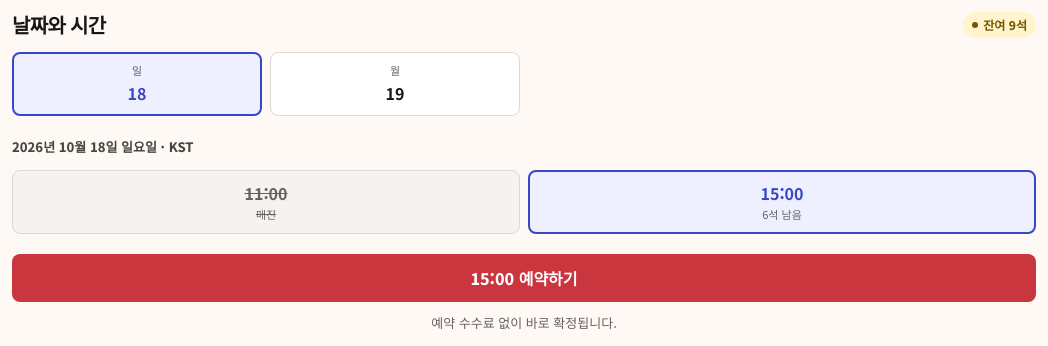
Test: slot picker preselects the first reservable slot and switches dates
The width and height of the screenshot is (1048, 346).
Check: the text "잔여 9석" is shown, box [963,12,1036,38]
Check: the text "2026년 10월 18일 일요일 · KST" is shown, box [12,137,193,156]
Click the button named "2026년 10월 19일 월요일".
click(395, 84)  # box [270,52,520,116]
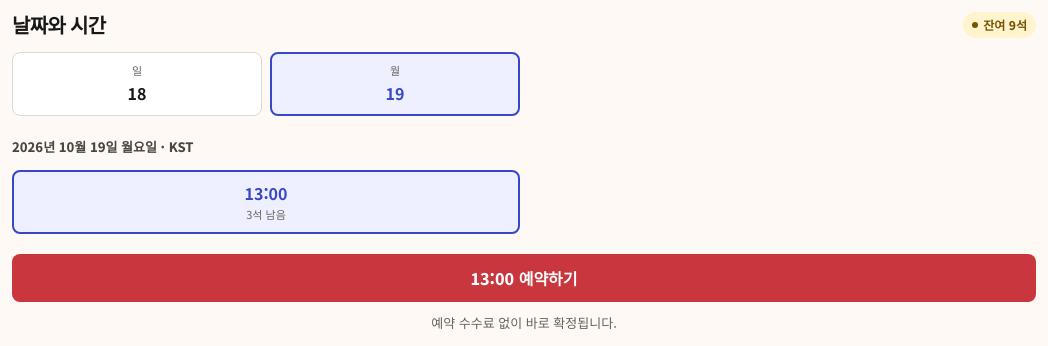
Check: the text "2026년 10월 19일 월요일 · KST" is shown, box [12,137,193,156]
